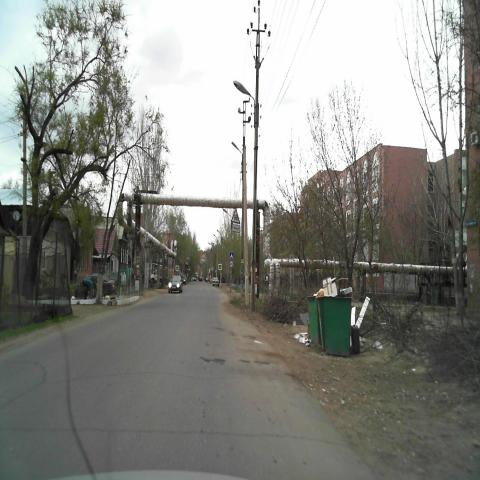1_23: (231, 208, 241, 223)
